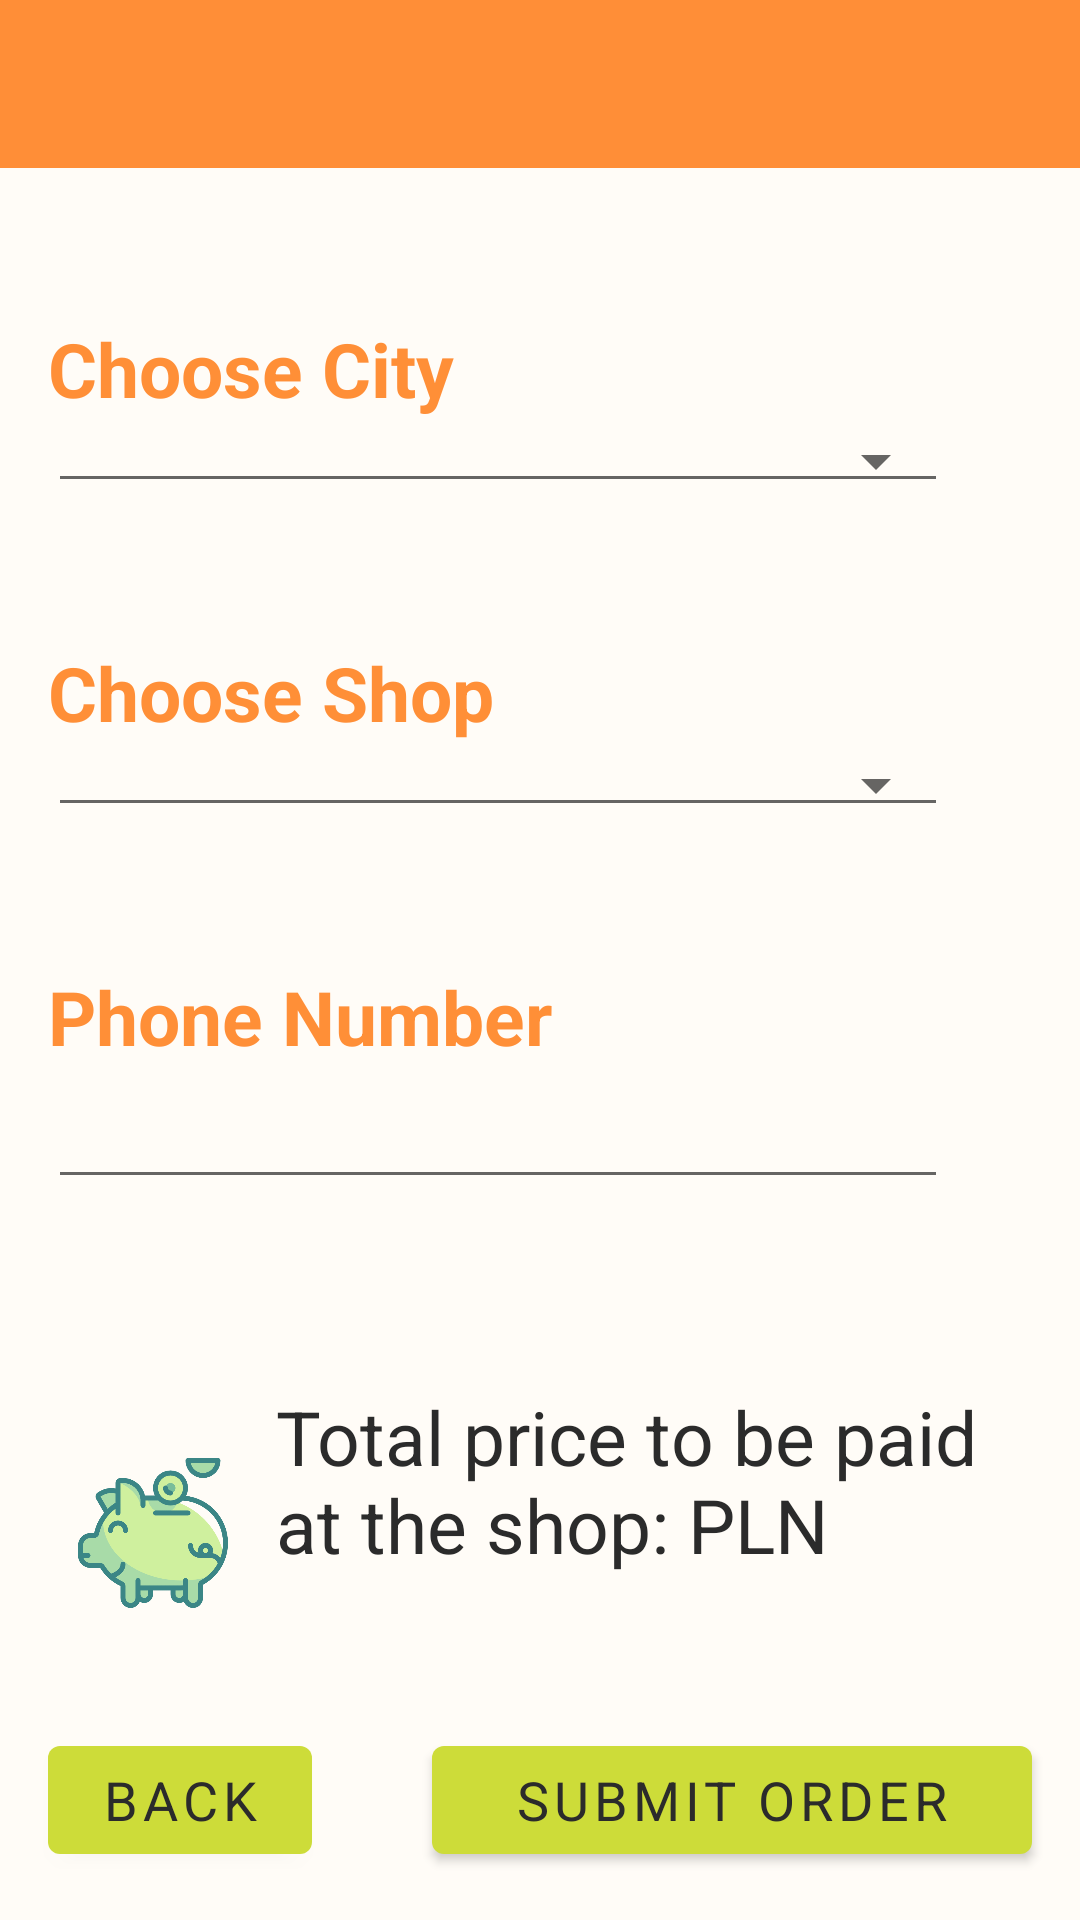

Icons on this 1080 × 1920 Android screen, each with the point to tap as (x=x, y=y):
piggy: (x=153, y=1533)
